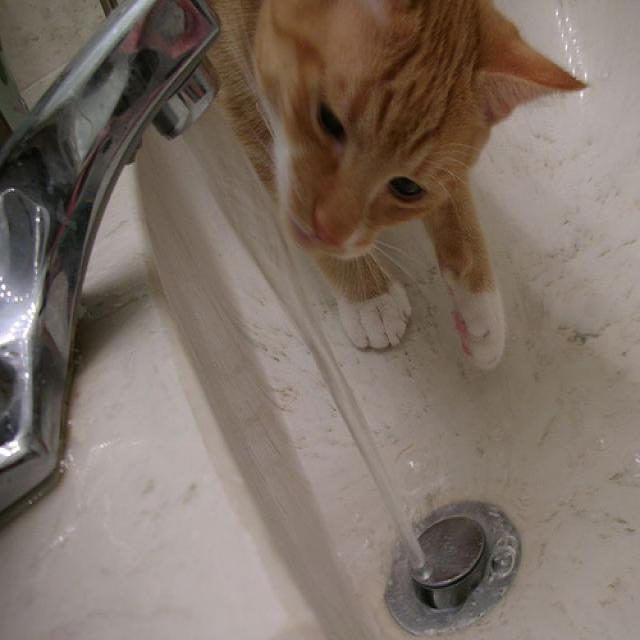cat: (181, 1, 593, 371)
